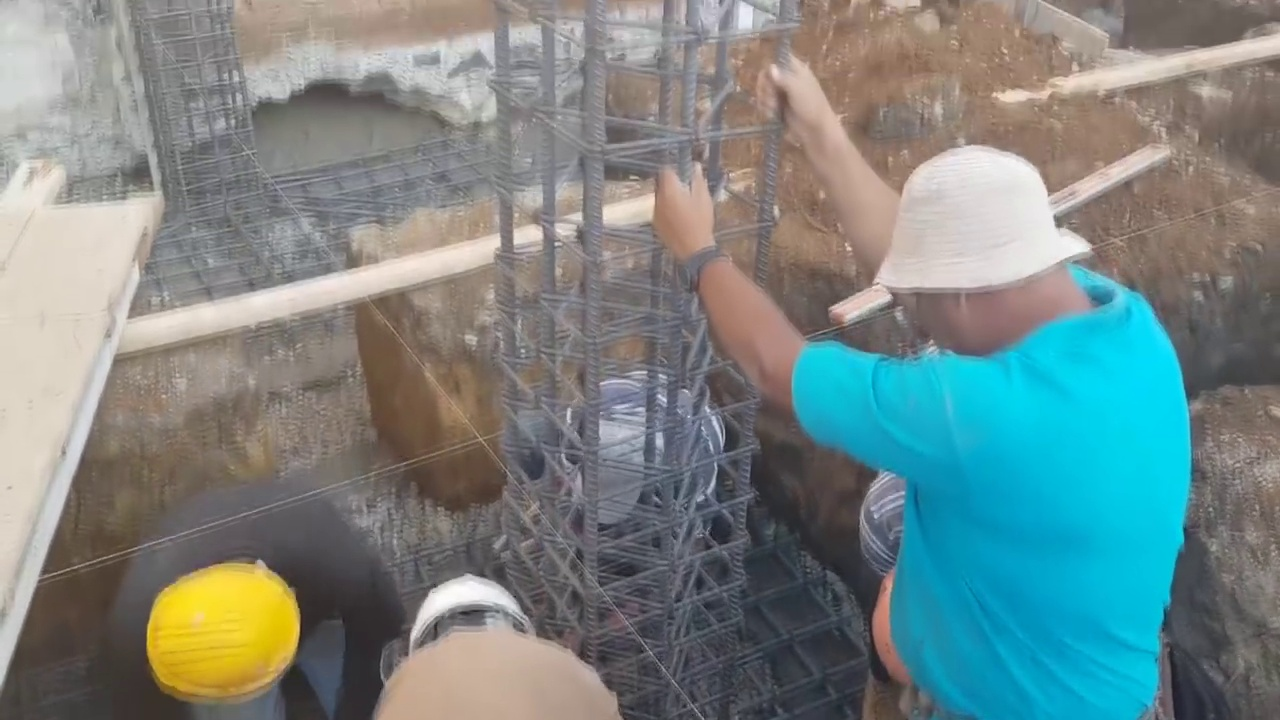helmet: (134, 579, 292, 691), (403, 587, 529, 661)
helmet-off: (887, 158, 1110, 343), (574, 402, 672, 525)
helmet-on: (128, 549, 306, 713)
person: (664, 51, 1199, 717), (76, 471, 404, 713), (502, 365, 726, 582), (367, 580, 622, 720)
